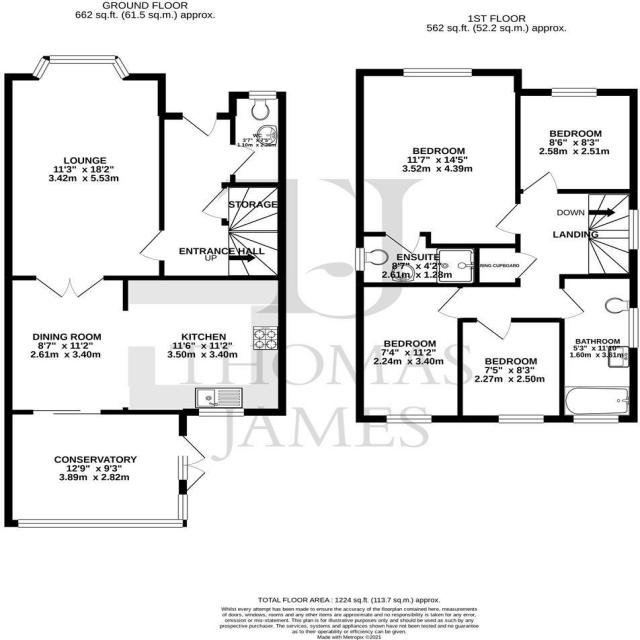DOOR: (180, 112, 220, 139), (559, 285, 588, 321), (474, 317, 515, 342), (435, 285, 464, 320), (199, 186, 228, 221), (136, 228, 165, 263), (520, 169, 560, 194), (493, 201, 521, 236), (231, 143, 258, 177), (384, 232, 421, 256)
DOUBLE DOOR: (33, 274, 108, 302)
ROOM: (4, 53, 166, 301), (5, 275, 287, 416), (355, 68, 521, 256), (355, 282, 463, 423), (514, 88, 638, 194), (559, 273, 640, 424), (457, 318, 565, 423)
WINDOW: (31, 54, 130, 81), (16, 518, 188, 529), (402, 67, 473, 77), (549, 87, 599, 98), (571, 414, 621, 425), (628, 207, 640, 251), (628, 306, 640, 349), (384, 414, 433, 424), (497, 414, 545, 424), (198, 408, 246, 417), (248, 90, 277, 100)
